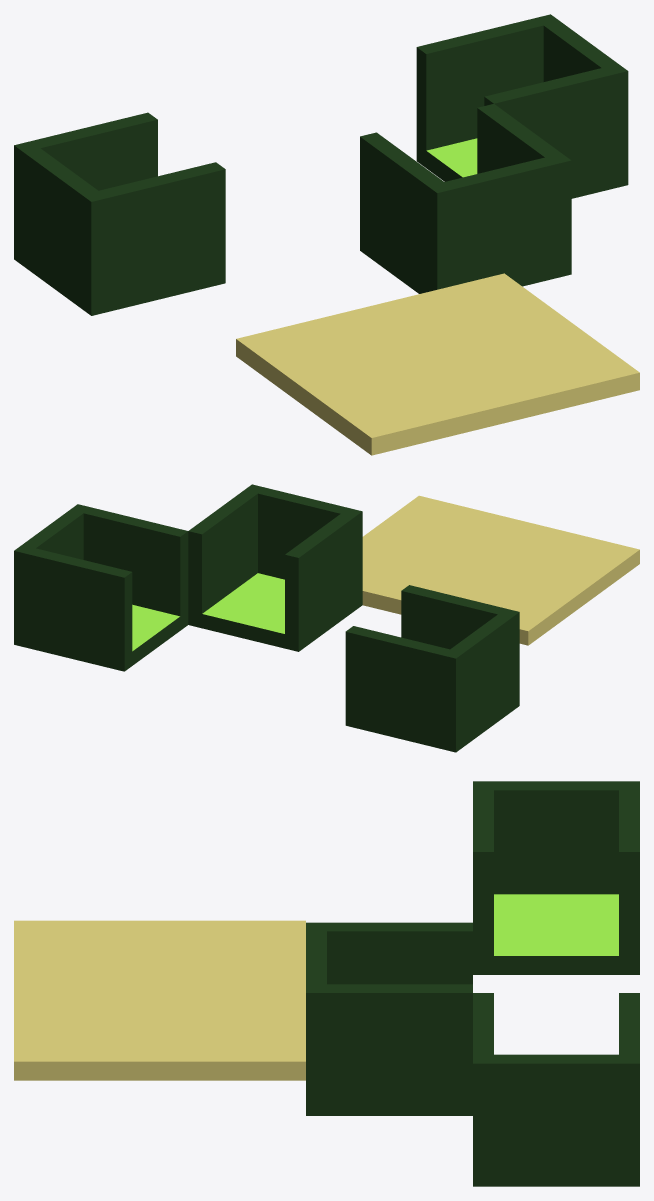
File: Level 1.glb
3 renders of one model, top to bottom at view 1: azimuth 30°, elevation 25°; view 2: azimuth 150°, elevation 25°; view 3: azimuth 270°, elevation 25°, orthographic. The views are drawn at different scales.
Parts seen in each view (by area): view 1: Cube, Cube.005, Cube.004, Cube.006; view 2: Cube.006, Cube.004, Cube, Cube.005; view 3: Cube, Cube.004, Cube.005, Cube.006.
Part boxes in pixels (x1=…): Cube: x1=236, y1=273, x2=639, y2=455; Cube.005: x1=14, y1=112, x2=225, y2=315; Cube.004: x1=360, y1=104, x2=571, y2=293; Cube.006: x1=416, y1=14, x2=628, y2=198; Cube.006: x1=14, y1=504, x2=188, y2=671; Cube.004: x1=188, y1=484, x2=362, y2=651; Cube: x1=362, y1=495, x2=639, y2=645; Cube.005: x1=345, y1=585, x2=519, y2=752; Cube: x1=14, y1=920, x2=305, y2=1080; Cube.004: x1=306, y1=922, x2=472, y2=1115; Cube.005: x1=473, y1=781, x2=639, y2=974; Cube.006: x1=473, y1=993, x2=639, y2=1186.
Bounding box in the file's own units: 32 × 6.5 × 30.
